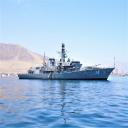Fragata: (18, 43, 117, 83)
